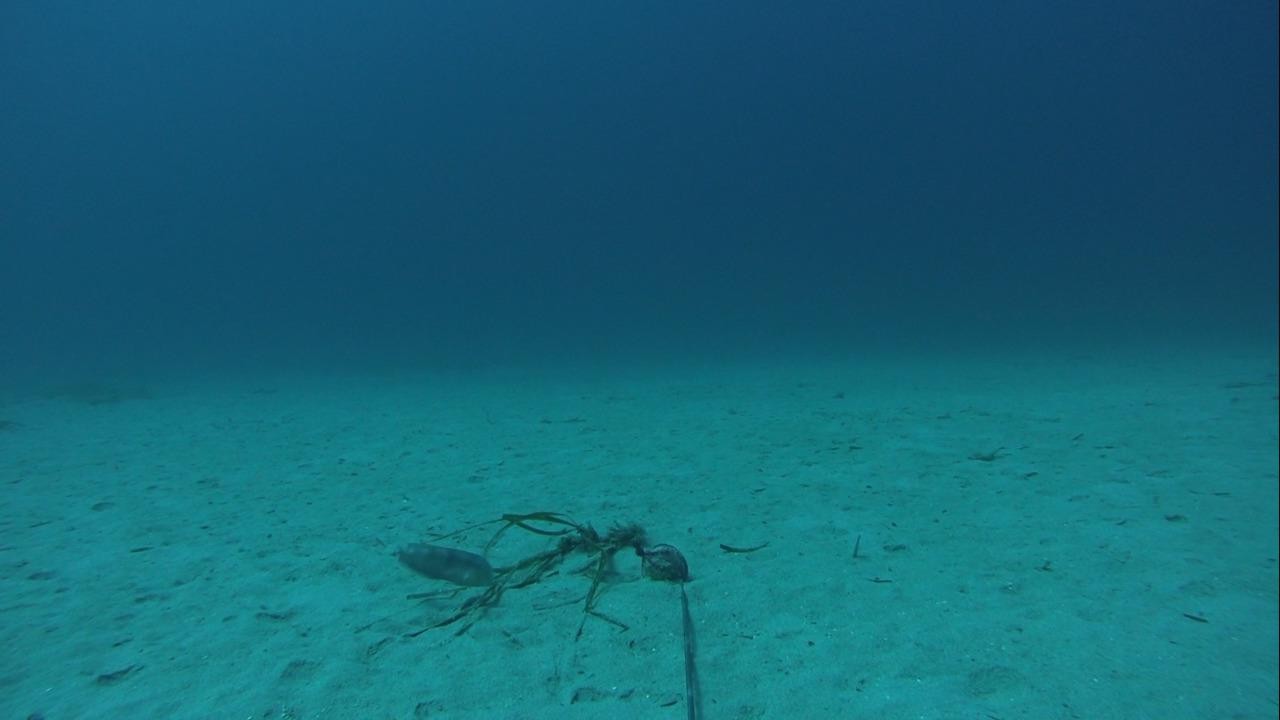raor: (384, 537, 500, 597)
